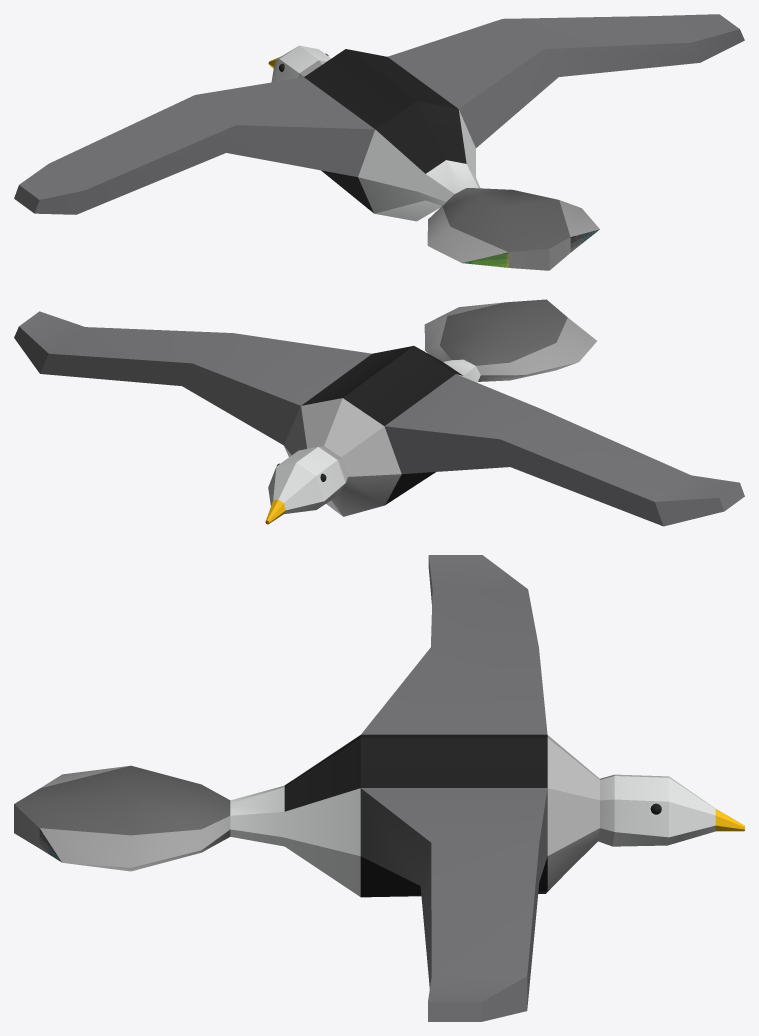
Rendered from bird.glb.
3 renders of one model, top to bottom at view 1: azimuth 30°, elevation 25°; view 2: azimuth 150°, elevation 25°; view 3: azimuth 270°, elevation 25°, orthographic. The views are drawn at different scales.
Visible parts, largest first — view 1: Icosphere; view 2: Icosphere; view 3: Icosphere.
Part boxes in pixels (left/top/right/bottom): Icosphere: left=14, top=14, right=744, bottom=270; Icosphere: left=14, top=299, right=744, bottom=526; Icosphere: left=14, top=555, right=744, bottom=1021.
Bounding box in the file's own units: 2.32 × 0.3751 × 1.58.
Materials: 1 (1 with a texture image).
